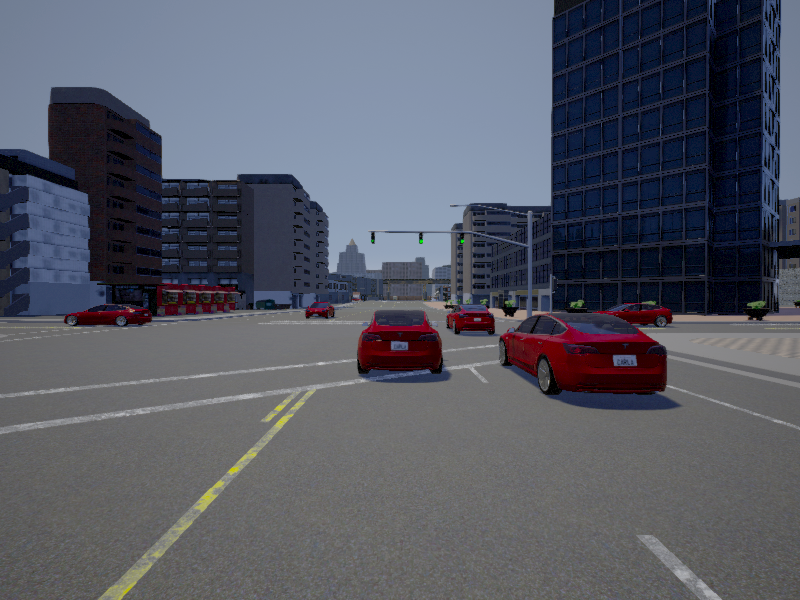Attacker: (64, 304, 151, 325)
Benign: (498, 313, 667, 397), (360, 311, 443, 373), (598, 302, 672, 327), (446, 306, 496, 337), (306, 302, 334, 318)
